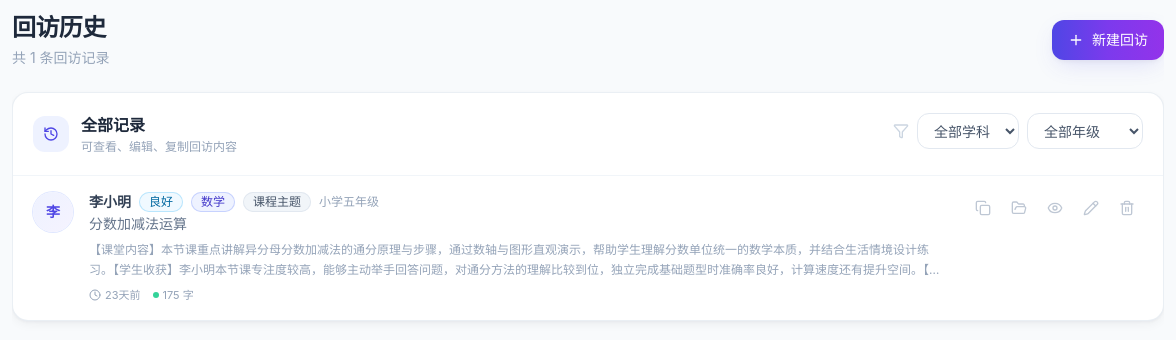
回访历史 · 复制 › 复制成功给出提示
Check: the text "分数加减法运算" is shown, box [89,215,187,232]
Click the button titled "复制内容": (983, 208) [967,192,999,224]
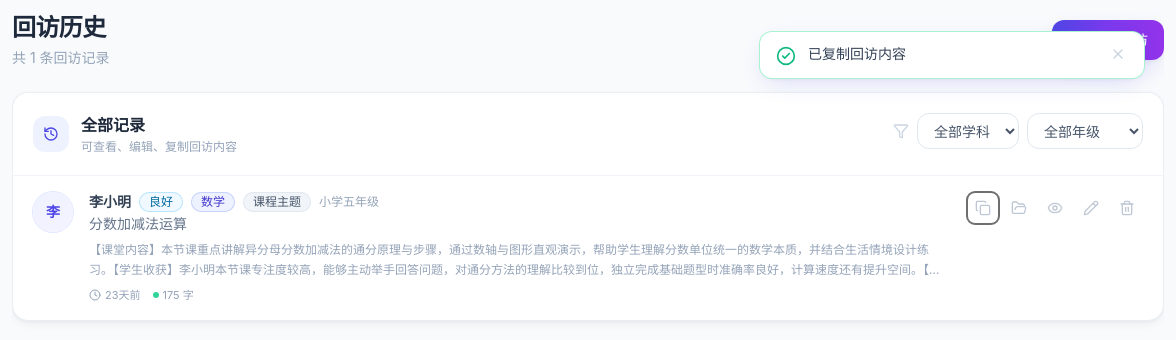
Check: the text "已复制回访内容" is shown, box [808,45,906,62]
